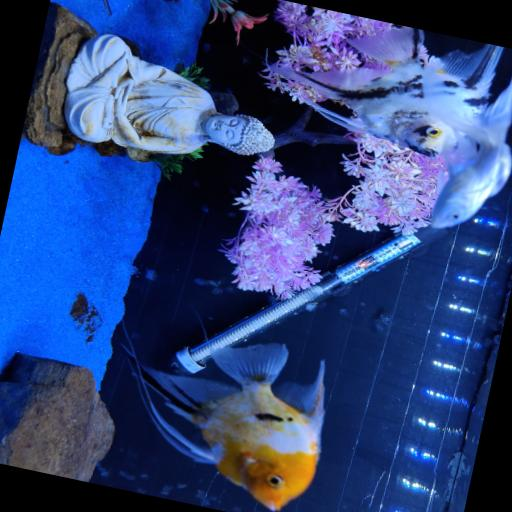Fish: (124, 343, 324, 510), (269, 27, 501, 156), (431, 77, 511, 227)
